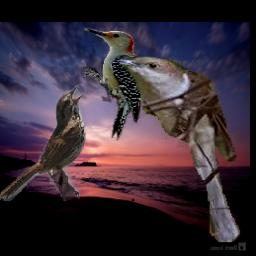Cuckoo: (118, 58, 242, 243)
Sparrow: (0, 84, 85, 201)
Woodpecker: (81, 26, 143, 141)
